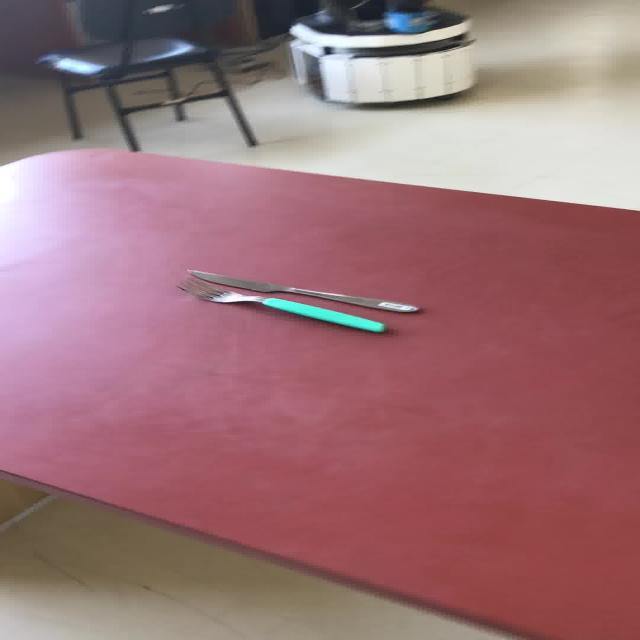fork: (173, 276, 386, 333)
knife fork: (183, 268, 419, 313)
